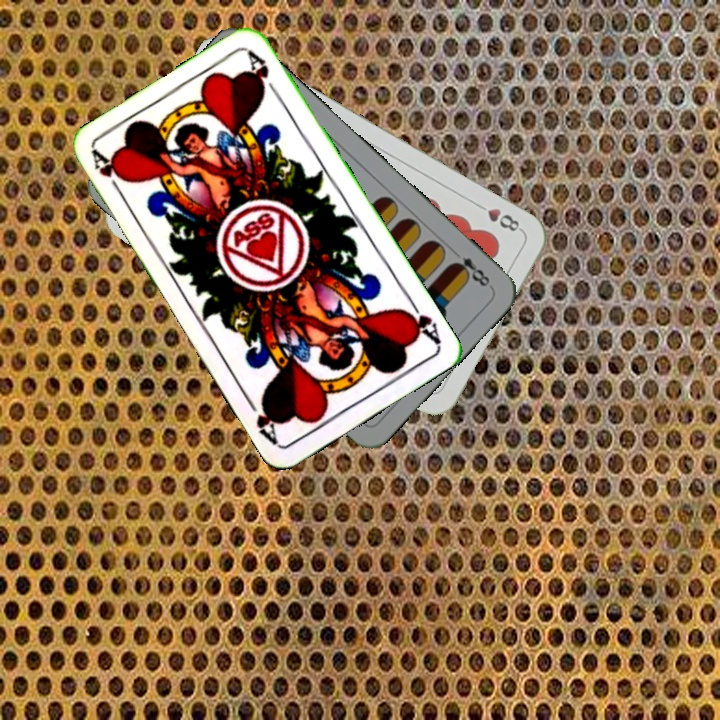E8: (447, 245, 494, 291)
H8: (471, 199, 525, 235)
HA: (396, 292, 443, 346), (88, 147, 127, 201)
